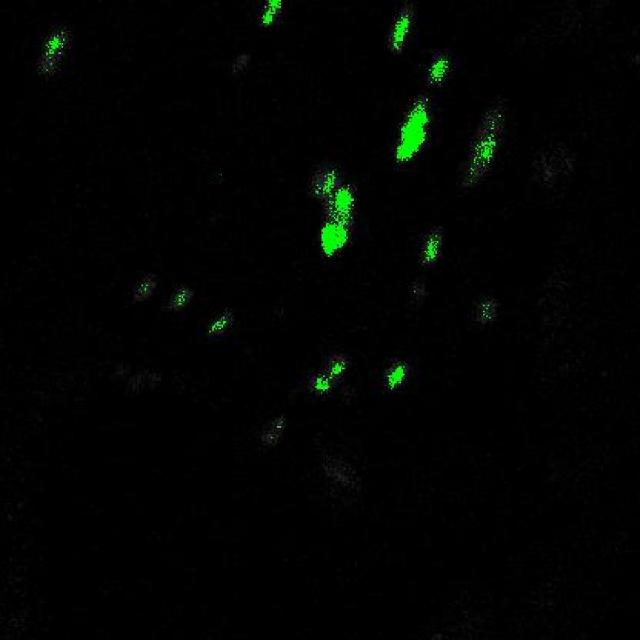Cell: (322, 176, 348, 252), (399, 106, 424, 157), (394, 16, 408, 48), (389, 365, 404, 391)
